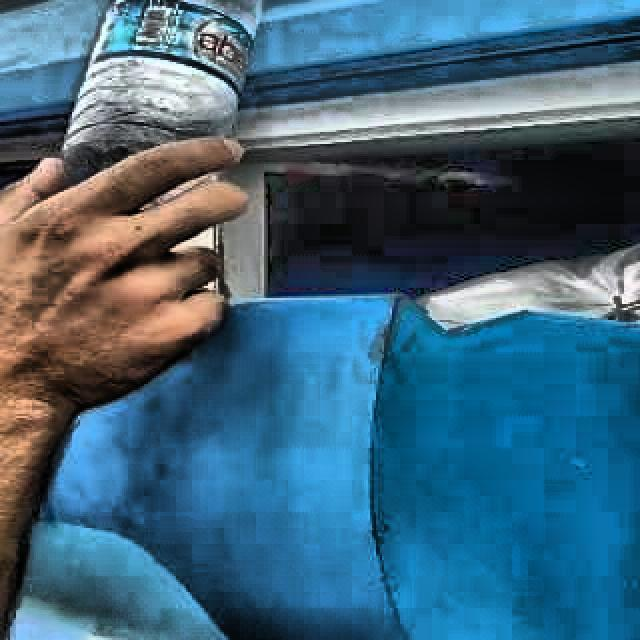plastic: (64, 0, 260, 179)
